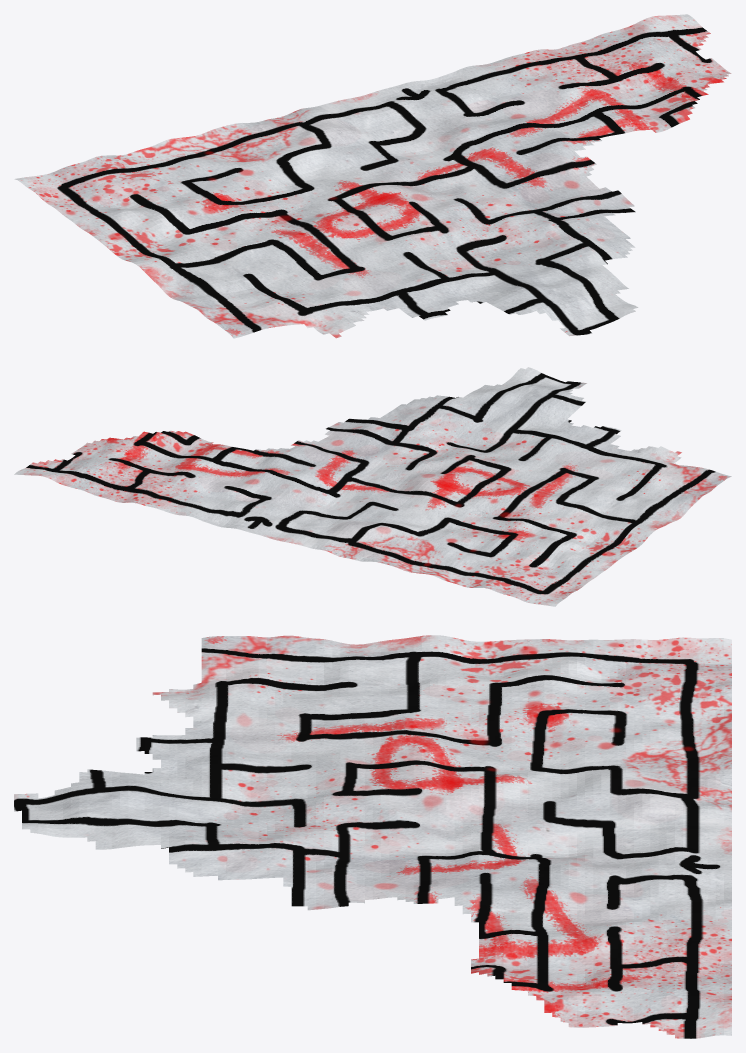
File: map1_4.fbx
3 views of the same model, one above another, from view 1: azimuth 30°, elevation 25°; view 2: azimuth 150°, elevation 25°; view 3: azimuth 270°, elevation 25° (orthographic). The views are drawn at different scales.
Parts seen in each view (by area): view 1: Cube.002; view 2: Cube.002; view 3: Cube.002.
Part boxes in pixels (x1,y1,x2,y2): Cube.002: (14, 14, 731, 338); Cube.002: (14, 367, 731, 606); Cube.002: (14, 635, 731, 1038).
Size of the model in its own units: 615 by 14.68 by 471.
